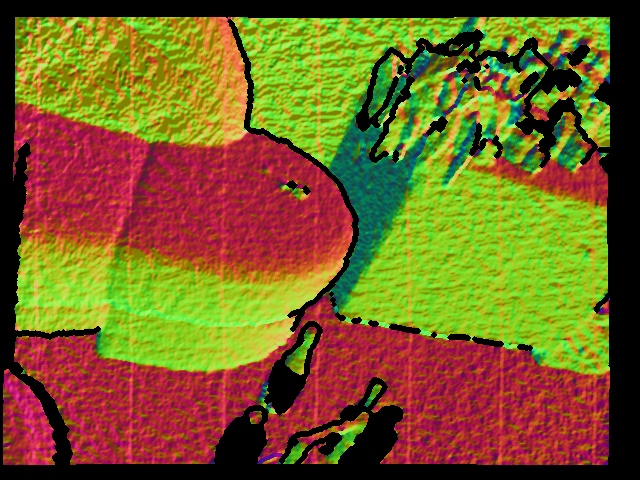station: (270, 406, 368, 466)
